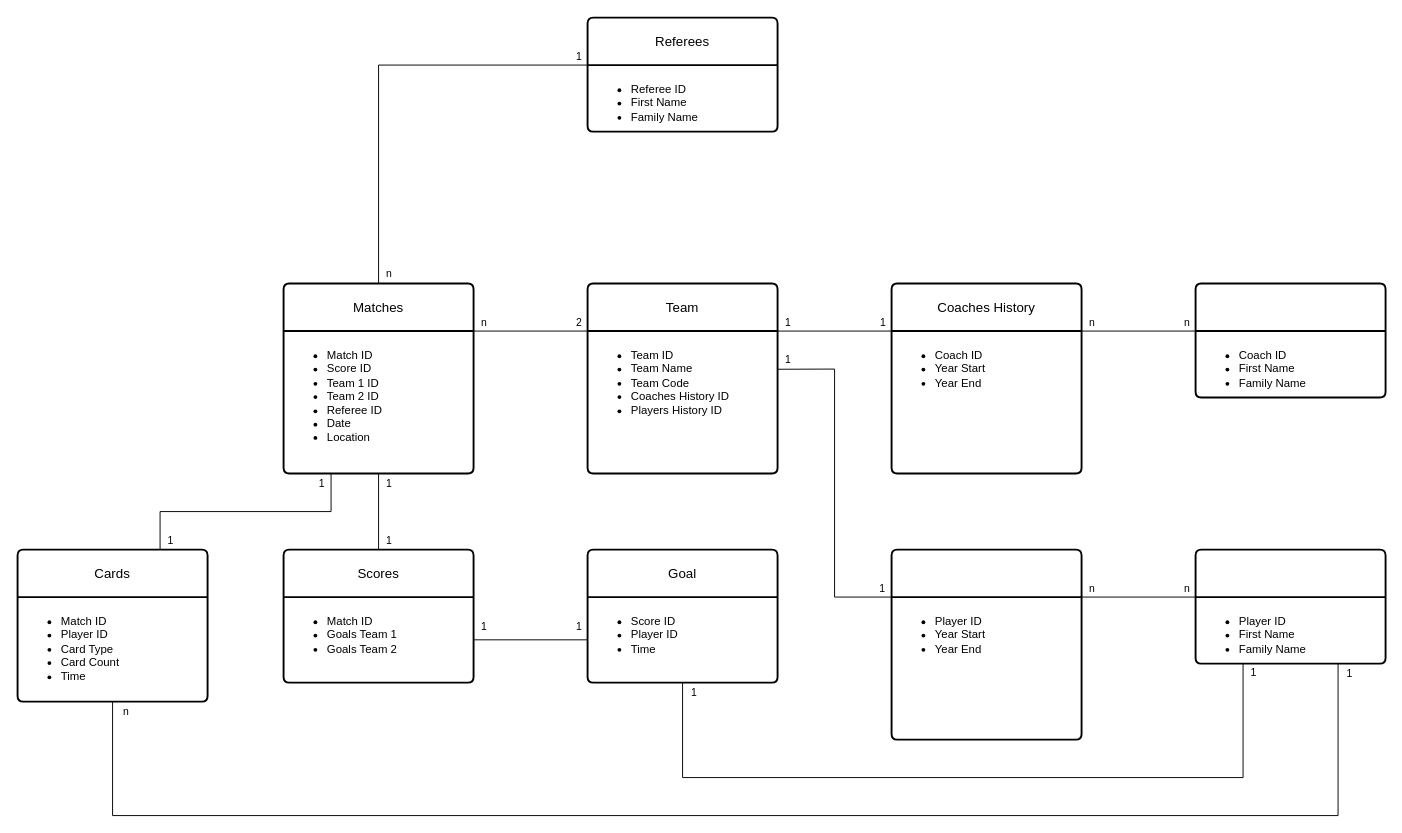
This 1402x833 diagram has some shape labels left out. Here are the shapes that lost their labels. From the top down, the box of each, then its label:
(1194, 282, 1386, 398): Coaches
(1194, 548, 1386, 664): Players
(890, 548, 1082, 740): Players History
